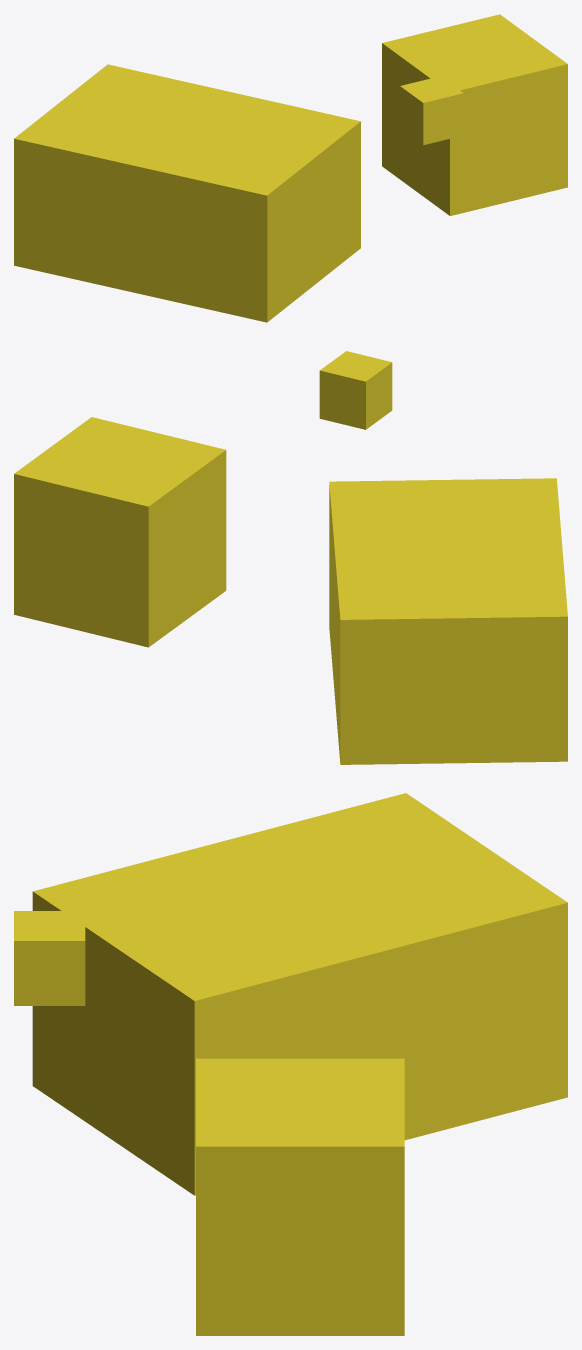
File: hivemind.gltf
The picture shows the model from 3 angles, top to bottom: view 1: azimuth 30°, elevation 25°; view 2: azimuth 150°, elevation 25°; view 3: azimuth 270°, elevation 25°; orthographic projection. The views are drawn at different scales.
Visible parts, largest first — view 1: Cube.001; view 2: Cube.001; view 3: Cube.001.
Part boxes in pixels (<box>): Cube.001: <box>14,14,567,322</box>; Cube.001: <box>14,351,567,764</box>; Cube.001: <box>14,793,567,1335</box>.
Size of what is drawn, in the model's own units: 1.14 by 0.419 by 0.7316.
